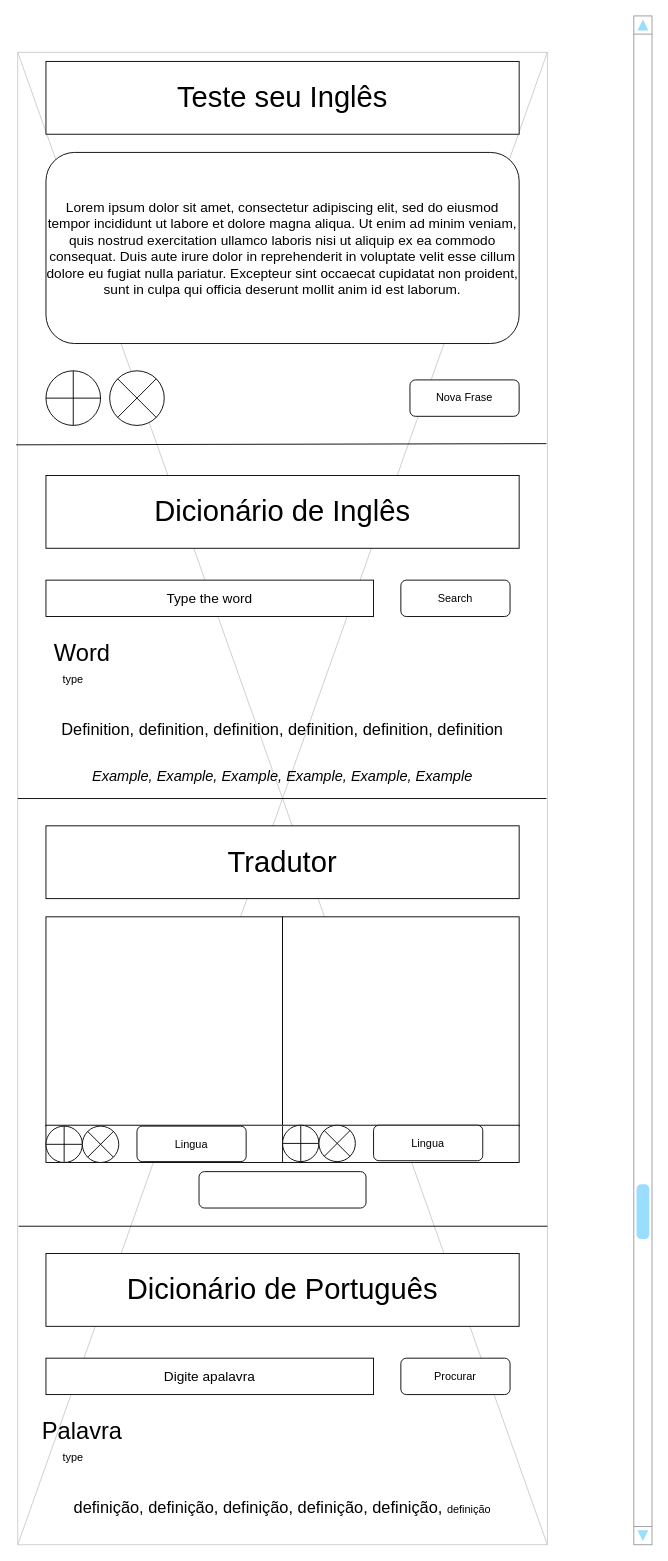
Some shapes in this 668 by 1561 pixel diagram are drawn without their labels. Here are the shapes that lost their labels. From the top down, the centre of each, then its label:
the point at 164,1021: Ingles
the point at 400,1021: portugues
the point at 282,1189: Traduzir
